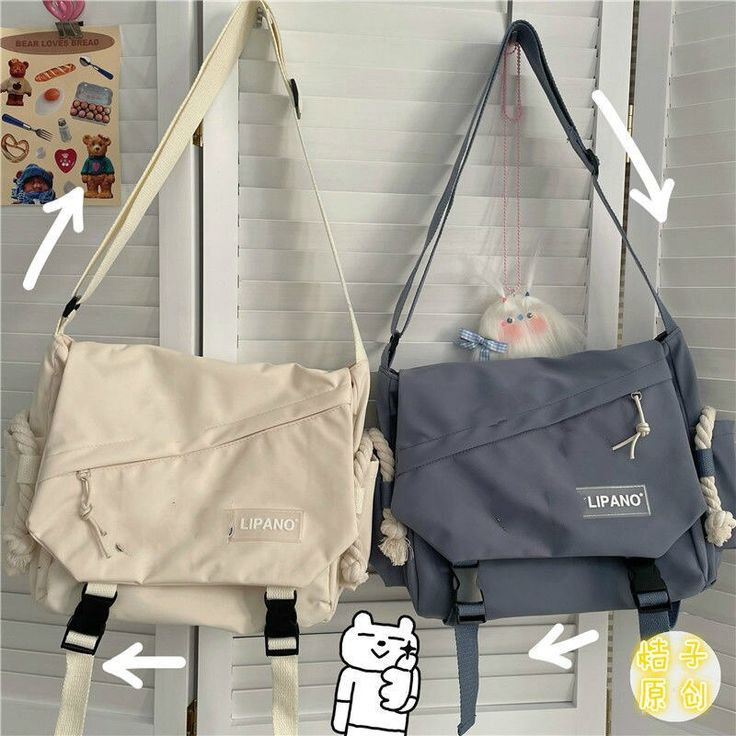nylon: (26, 1, 736, 736)
